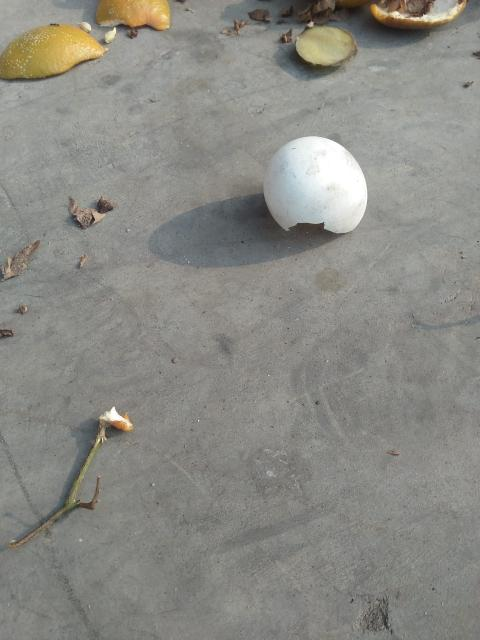Roto: (262, 135, 367, 234)
